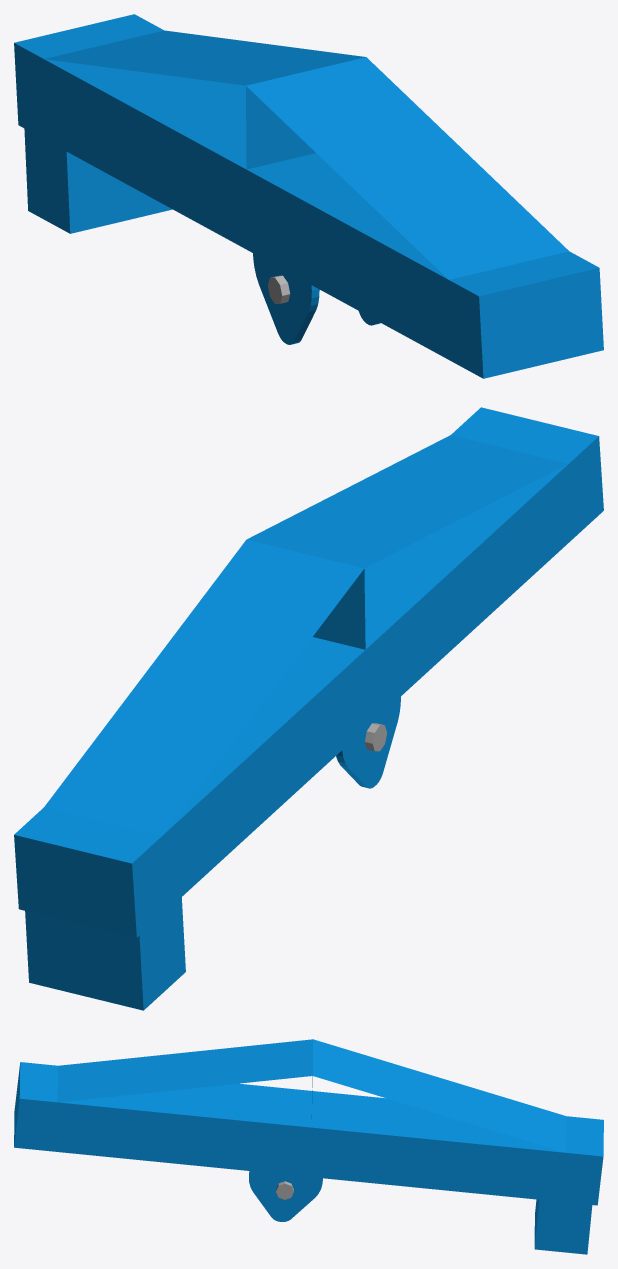
Rendered from gooseBalka_1.glb.
The picture shows the model from 3 angles, top to bottom: view 1: azimuth 30°, elevation 25°; view 2: azimuth 150°, elevation 25°; view 3: azimuth 270°, elevation 25°; orthographic projection. The views are drawn at different scales.
Parts seen in each view (by area): view 1: MainBody.001; view 2: MainBody.001; view 3: MainBody.001.
Part boxes in pixels (x1=…): MainBody.001: x1=14, y1=14, x2=603, y2=378; MainBody.001: x1=14, y1=407, x2=603, y2=1010; MainBody.001: x1=14, y1=1039, x2=603, y2=1254.
Bounding box in the file's own units: 1.26 × 2.79 × 8.34.
